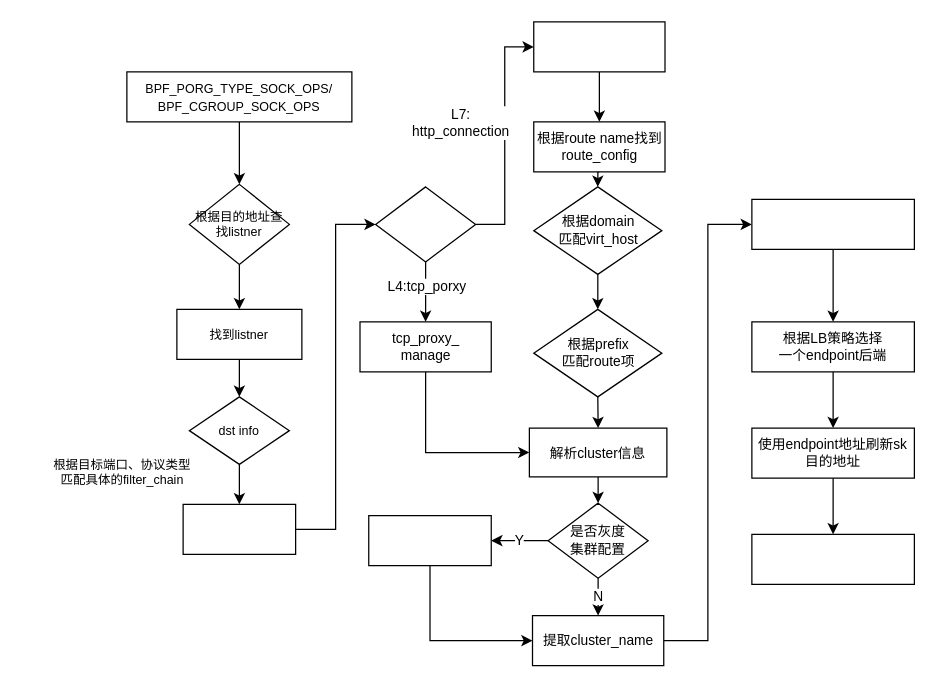
Some shapes in this 936 by 688 pixel diagram are drawn without their labels. The shapes that lost their labels are listed below. From the top down, each one's centre as x and y in pixels, then its label:
the point at 598,46: http_connection_ manage
the point at 425,224: 匹配filter 类型
the point at 832,223: 根据cluster_name找到对应的endpoints
the point at 239,528: find filter_chain
the point at 429,540: 根据灰度比例 选择一个cluster
the point at 832,558: 后续建链流程
